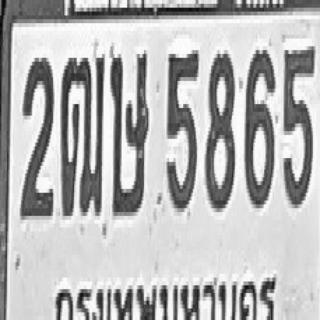A18: (60, 52, 105, 218)
A39: (110, 46, 149, 216)
N02: (20, 54, 53, 220)
N05: (166, 48, 199, 210), (283, 44, 315, 206)
N06: (244, 46, 275, 208)
N08: (204, 48, 235, 210)
